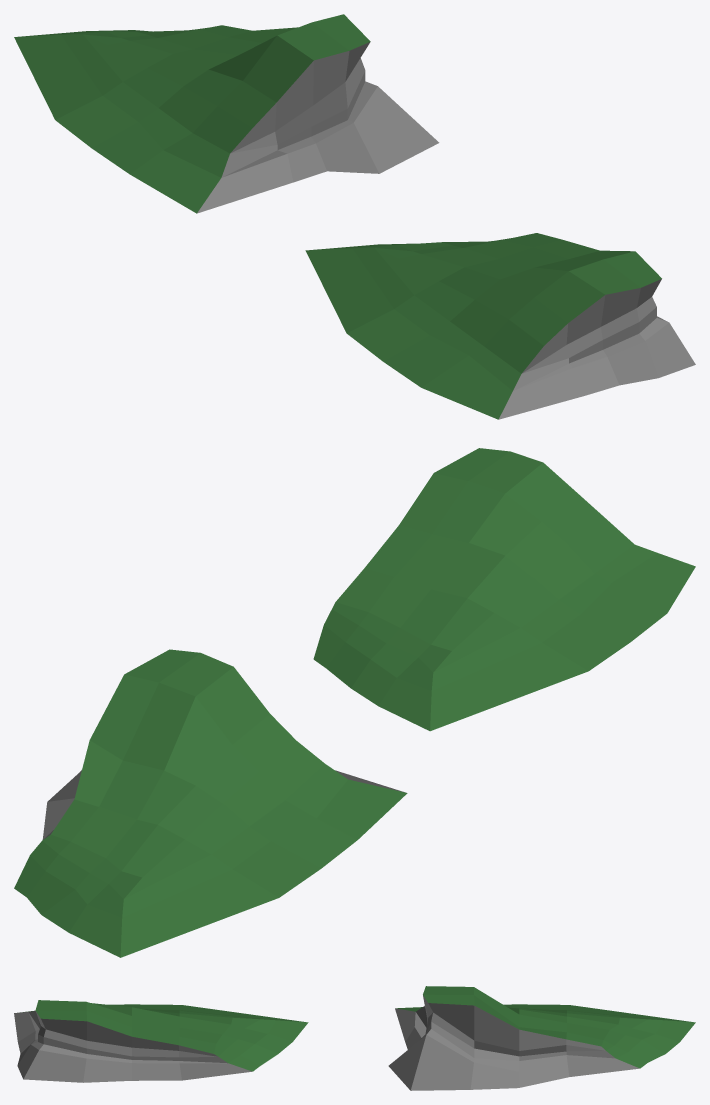
Rendered from ground_element1.fbx.
3 renders of one model, top to bottom at view 1: azimuth 30°, elevation 25°; view 2: azimuth 150°, elevation 25°; view 3: azimuth 270°, elevation 25°, orthographic. The views are drawn at different scales.
Visible parts, largest first — view 1: Plane.001, Plane; view 2: Plane.001, Plane; view 3: Plane.001, Plane.
Boxes of the visible parts, left/top/right/bottom form: Plane.001: left=14, top=14, right=439, bottom=213; Plane: left=305, top=233, right=695, bottom=419; Plane.001: left=14, top=649, right=407, bottom=957; Plane: left=313, top=448, right=695, bottom=731; Plane.001: left=388, top=986, right=695, bottom=1090; Plane: left=14, top=1000, right=308, bottom=1082.
Bounding box in the file's own units: 386 × 169 × 1289.
